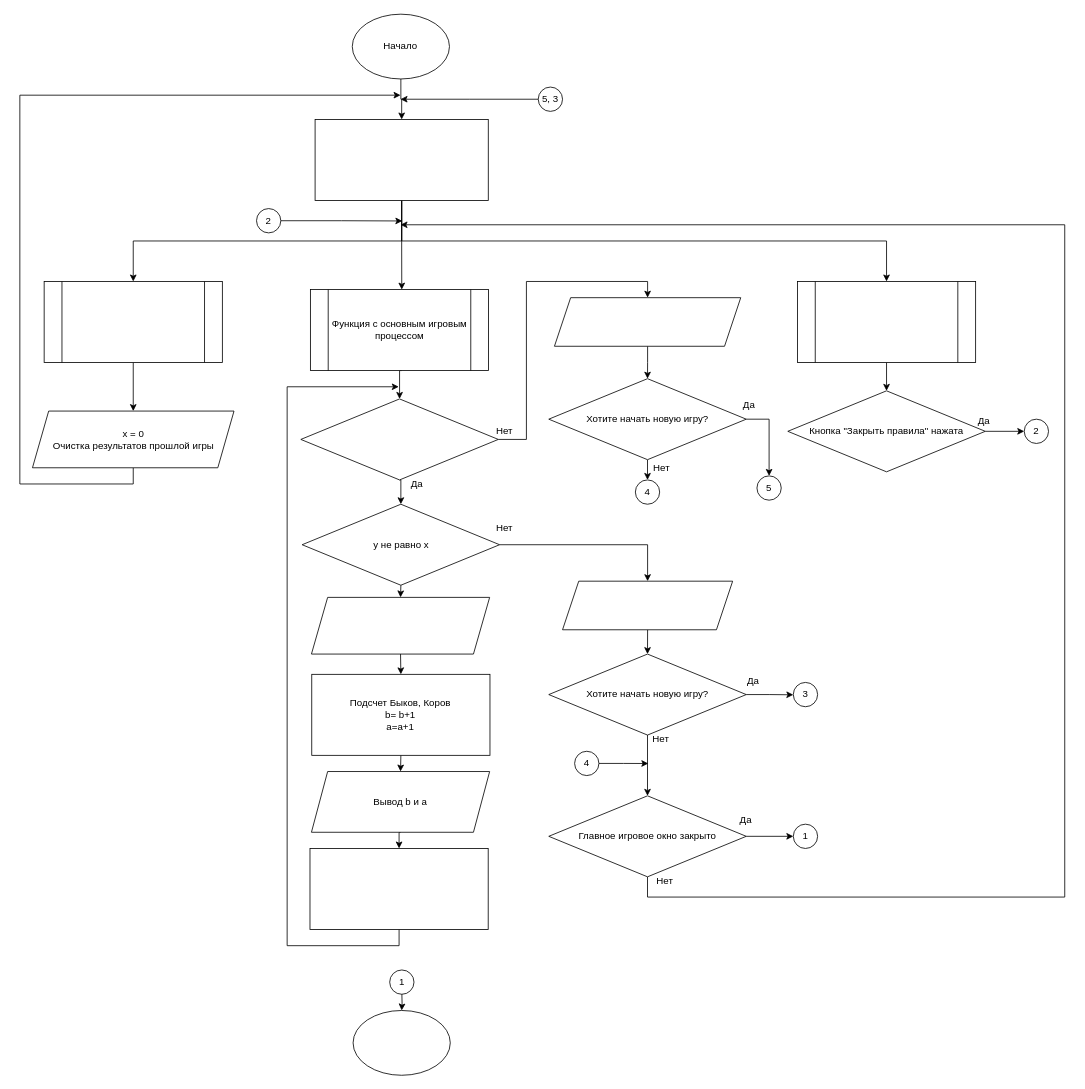
This 1085x1089 diagram has some shape labels left out. The shapes that lost their labels are listed below. From the top down, each one's centre as x and y in pixels, then its label:
(x=401, y=159): Компьютер загадывает число x i = 0 Пользователь вводит число y b = 0 a = 0 n = 0
(x=132, y=321): Функция начала новой игры
(x=647, y=321): "Вы проиграли"
(x=886, y=321): Функция открытия окна с правилами
(x=399, y=439): n <= 16
(x=400, y=625): Ввод числа
(x=647, y=605): "Вы выиграли!"
(x=398, y=888): N = N+1
(x=401, y=1042): Конец
